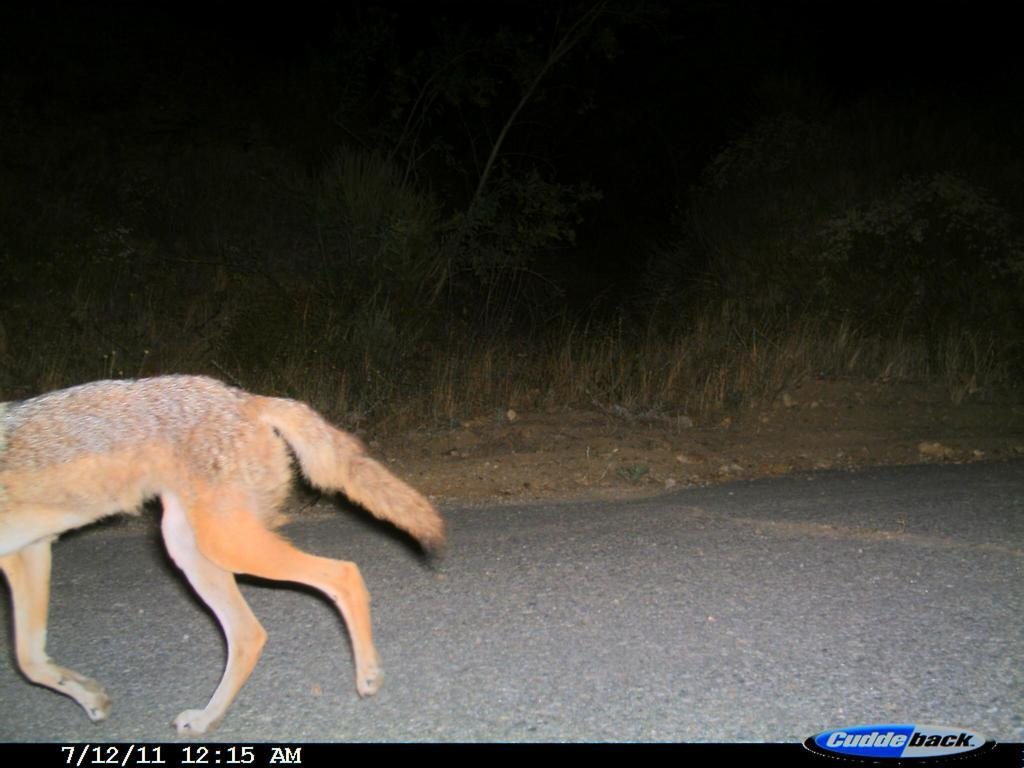coyote: (2, 367, 454, 743)
